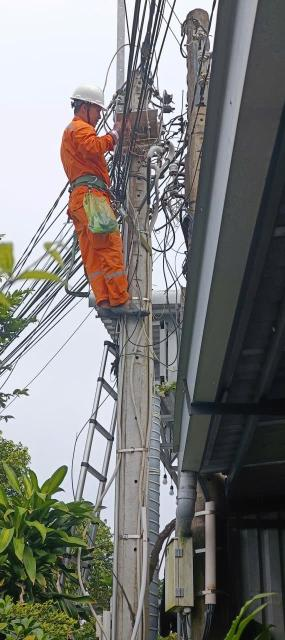gloves: (105, 118, 137, 145)
harness: (64, 174, 123, 200)
helmet: (54, 74, 117, 114)
shoes: (91, 298, 154, 320)
